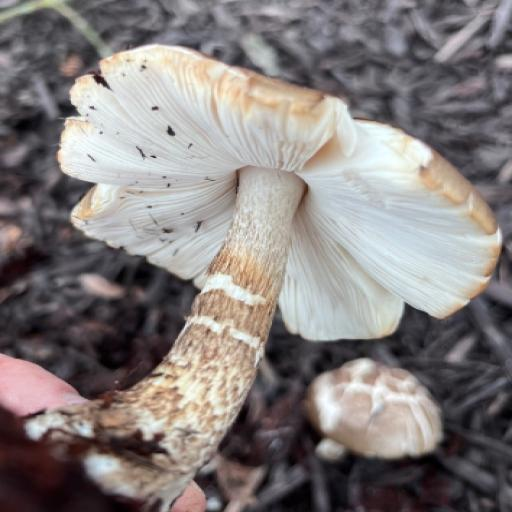Shiitake Mushroom: (41, 38, 507, 503)
